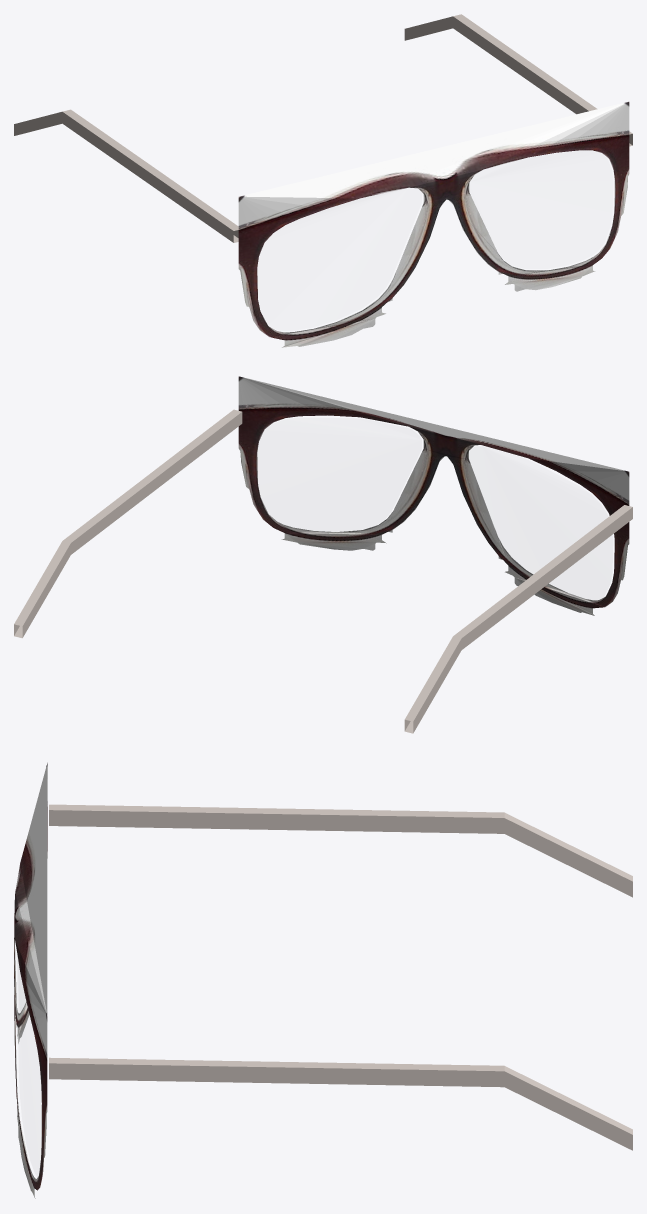
Rendered from gothamstyle-matte-251_brown.glb.
The picture shows the model from 3 angles, top to bottom: view 1: azimuth 30°, elevation 25°; view 2: azimuth 150°, elevation 25°; view 3: azimuth 270°, elevation 25°; orthographic projection. The views are drawn at different scales.
Visible parts, largest first — view 1: frame_front, temple_viewer_left, temple_viewer_right; view 2: frame_front, temple_viewer_left, temple_viewer_right; view 3: temple_viewer_right, temple_viewer_left, frame_front.
Boxes of the visible parts, x1,y1,x2,y2 form: frame_front: [238, 101, 629, 347]; temple_viewer_left: [14, 109, 238, 242]; temple_viewer_right: [404, 14, 632, 146]; frame_front: [238, 376, 629, 615]; temple_viewer_left: [404, 505, 632, 733]; temple_viewer_right: [14, 409, 242, 638]; temple_viewer_right: [49, 1057, 632, 1150]; temple_viewer_left: [49, 804, 632, 897]; frame_front: [14, 762, 47, 1198].
Bounding box in the file's own units: 0.1395 × 0.0532 × 0.141.
3 materials, 2 textured.
